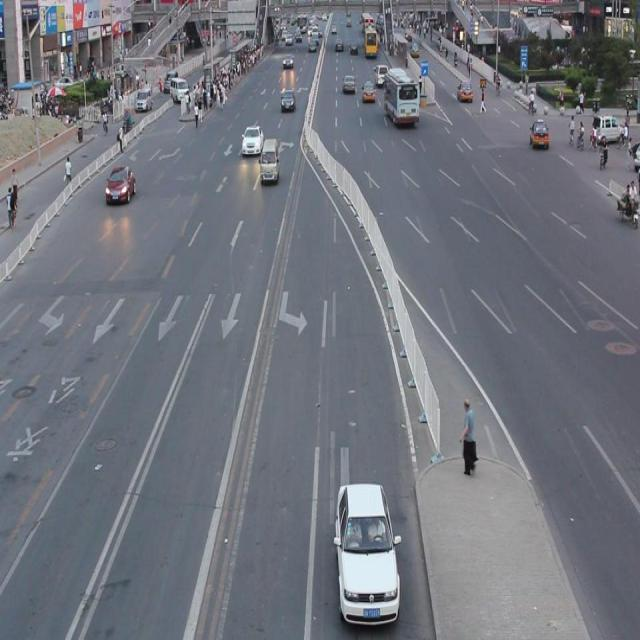car: (336, 479, 400, 623), (105, 164, 136, 205)
